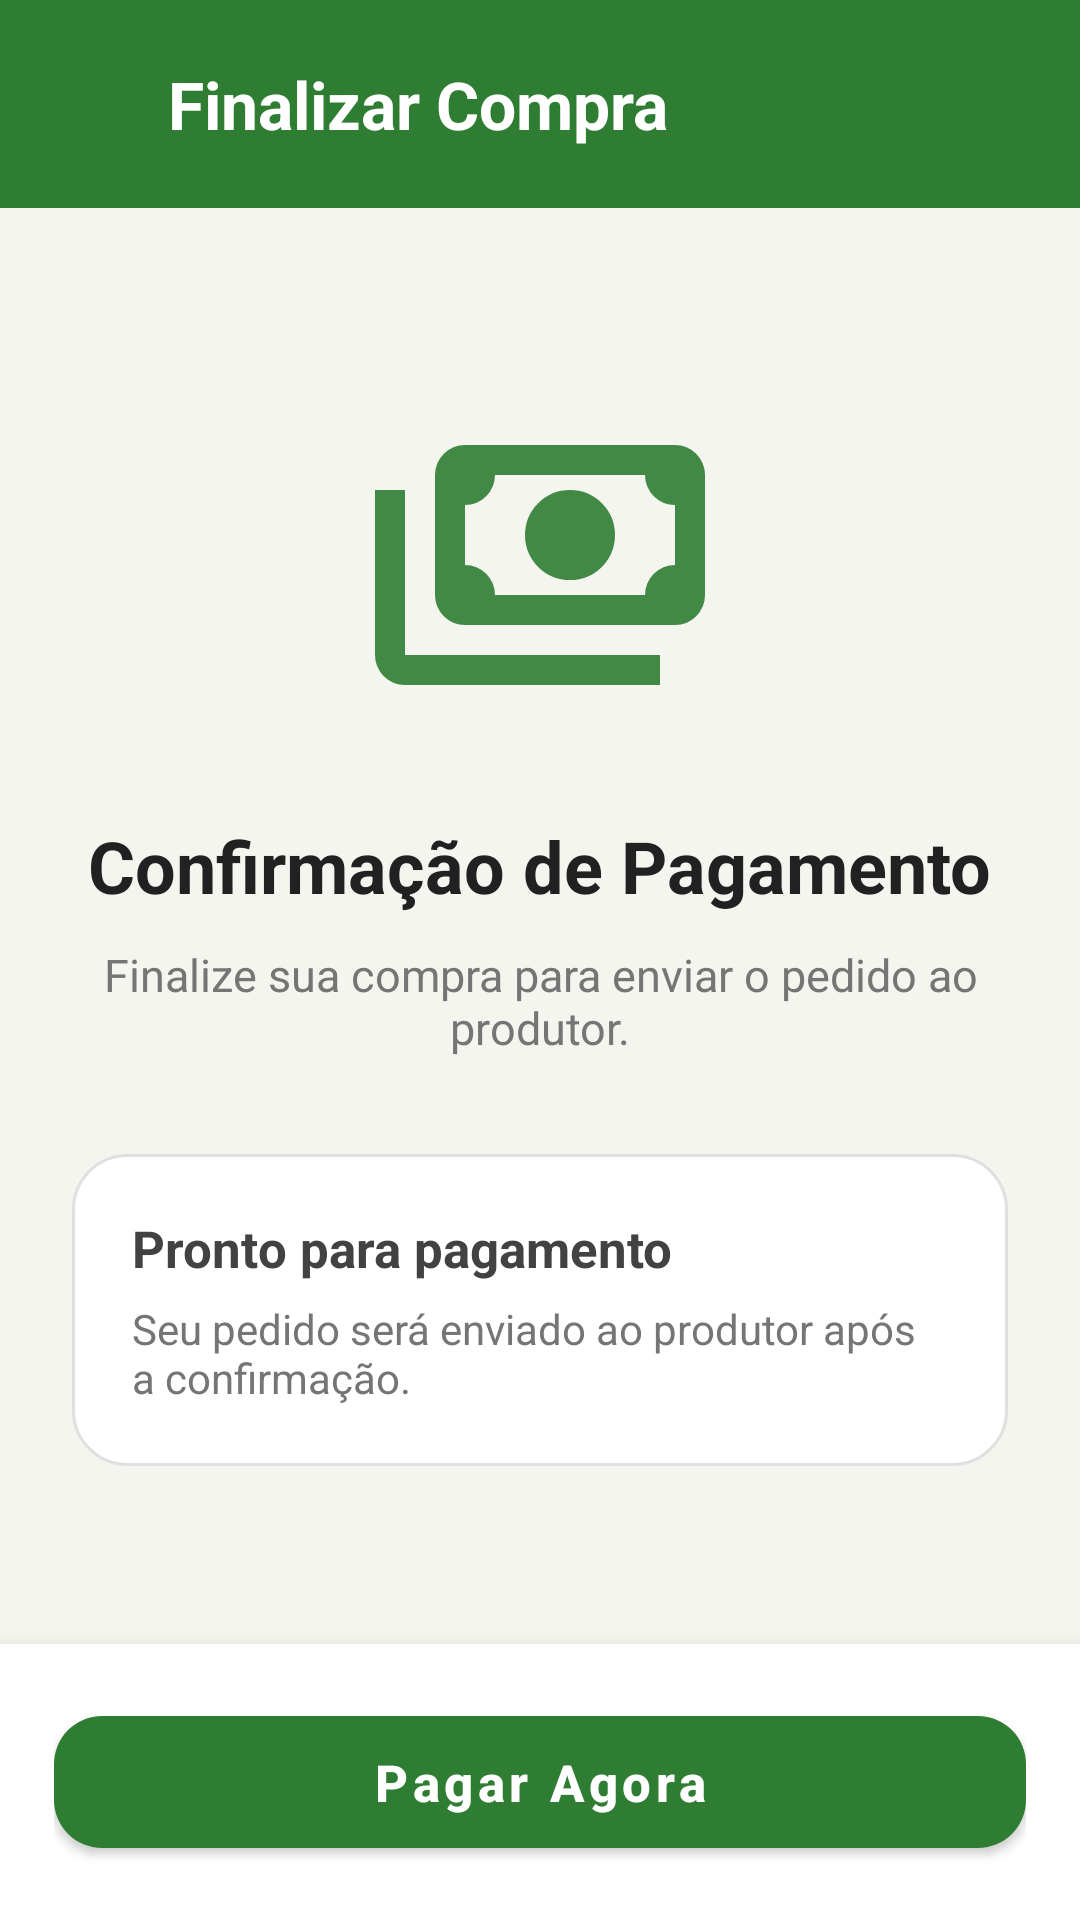

Named icons in this screenshot (1080*1920) and their bounding boxes, (x1, y1, x2, y2):
payments gren: (375, 445, 705, 685)
